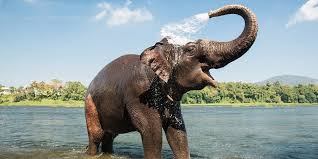Elephant: (74, 3, 261, 159)
